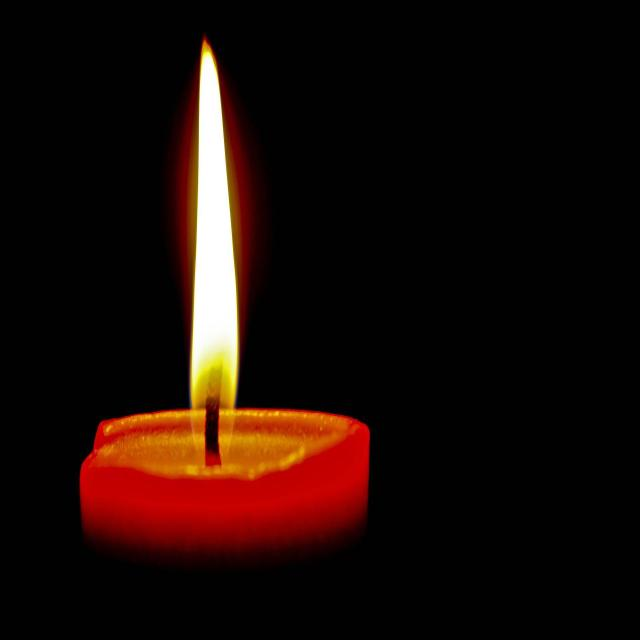Fire_Save: (78, 33, 370, 566)
